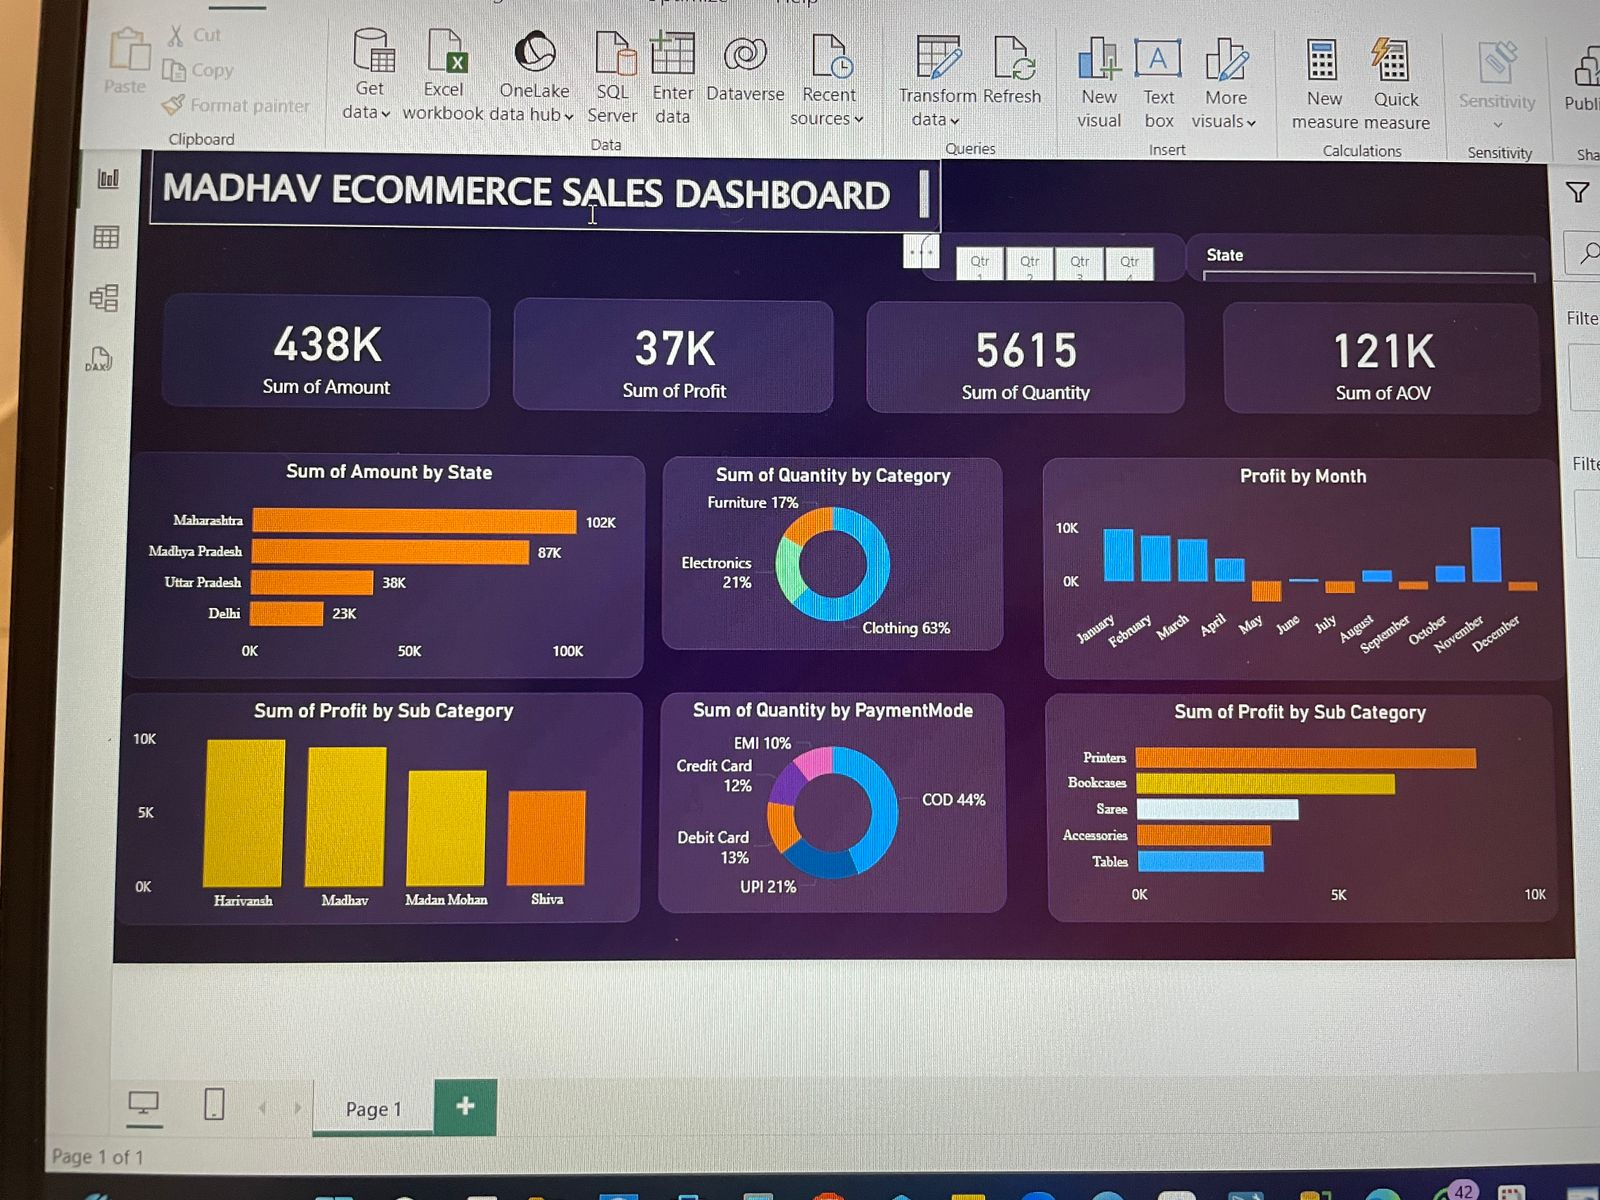

This screenshot's page, from the dashboard's own definition file:
{"tool":"powerbi","page":{"name":"Page 1","canvas":[1280,720],"ordinal":0},"visuals":[{"type":"textbox","box":[9.6,0,710.8,68.6],"z":0},{"type":"columnChart","title":"Profit by Month","fields":{"Category":["Orders.Order Date.Variation.Date Hierarchy.Month"],"Y":["Sum(Details.Profit)"]},"box":[812.4,274.4,467.9,200.3],"z":1000},{"type":"barChart","title":"Sum of Profit by Sub Category","fields":{"Category":["Details.Sub-Category"],"Y":["Sum(Details.Profit)"]},"box":[812.4,487.1,452.8,200.3],"z":2000},{"type":"donutChart","fields":{"Y":["Sum(Details.Quantity)"],"Category":["Details.Category"]},"box":[469.3,274.4,306,174.3],"z":3000},{"type":"donutChart","fields":{"Y":["Sum(Details.Quantity)"],"Category":["Details.PaymentMode"]},"box":[469.3,487.1,306,192.1],"z":4000},{"type":"card","fields":{"Values":["Sum(Details.Amount)"]},"box":[26.1,131.7,288.2,101.5],"z":5000},{"type":"card","fields":{"Values":["Sum(Details.AOV)"]},"box":[977,131.7,288.2,101.5],"z":6000},{"type":"card","fields":{"Values":["Sum(Details.Quantity)"]},"box":[653.2,131.7,288.2,101.5],"z":7000},{"type":"card","fields":{"Values":["Sum(Details.Profit)"]},"box":[334.8,131.7,288.2,101.5],"z":8000},{"type":"columnChart","title":"Sum of Profit by Sub Category","fields":{"Category":["Orders.CustomerName"],"Y":["Sum(Details.Amount)"]},"box":[0,487.1,452.8,200.3],"z":9000},{"type":"barChart","title":"Sum of Amount  by State","fields":{"Category":["Orders.State"],"Y":["Sum(Details.Amount)"]},"box":[0,274.4,452.8,200.3],"z":10000},{"type":"slicer","fields":{"Values":["Orders.Order Date.Variation.Date Hierarchy.Quarter"]},"box":[702.6,68.6,241.5,43.9],"z":11000},{"type":"slicer","fields":{"Values":["Orders.State"]},"box":[944.1,68.6,336.2,43.9],"z":12000}]}

Visuals, with their boxes on the page's 1280x720 design canvas (x1, y1, x2, y2). These are canvas units, not pixel positions in the 1600x1200 screenshot, which may show the page scaled, cropped or inside an application window:
textbox: [10,0,720,69]
"Profit by Month" columnChart: [812,274,1280,475]
"Sum of Profit by Sub Category" barChart: [812,487,1265,687]
donutChart - Sum(Details.Quantity) x Details.Category: [469,274,775,449]
donutChart - Sum(Details.Quantity) x Details.PaymentMode: [469,487,775,679]
card - Sum(Details.Amount): [26,132,314,233]
card - Sum(Details.AOV): [977,132,1265,233]
card - Sum(Details.Quantity): [653,132,941,233]
card - Sum(Details.Profit): [335,132,623,233]
"Sum of Profit by Sub Category" columnChart: [0,487,453,687]
"Sum of Amount  by State" barChart: [0,274,453,475]
slicer - Orders.Order Date.Variation.Date Hierarchy.Quarter: [703,69,944,112]
slicer - Orders.State: [944,69,1280,112]
